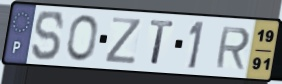1: (186, 20, 206, 72)
O: (65, 13, 99, 63)
R: (213, 26, 252, 72)
S: (31, 9, 66, 63)
T: (149, 18, 176, 68)
Z: (103, 15, 144, 66)
